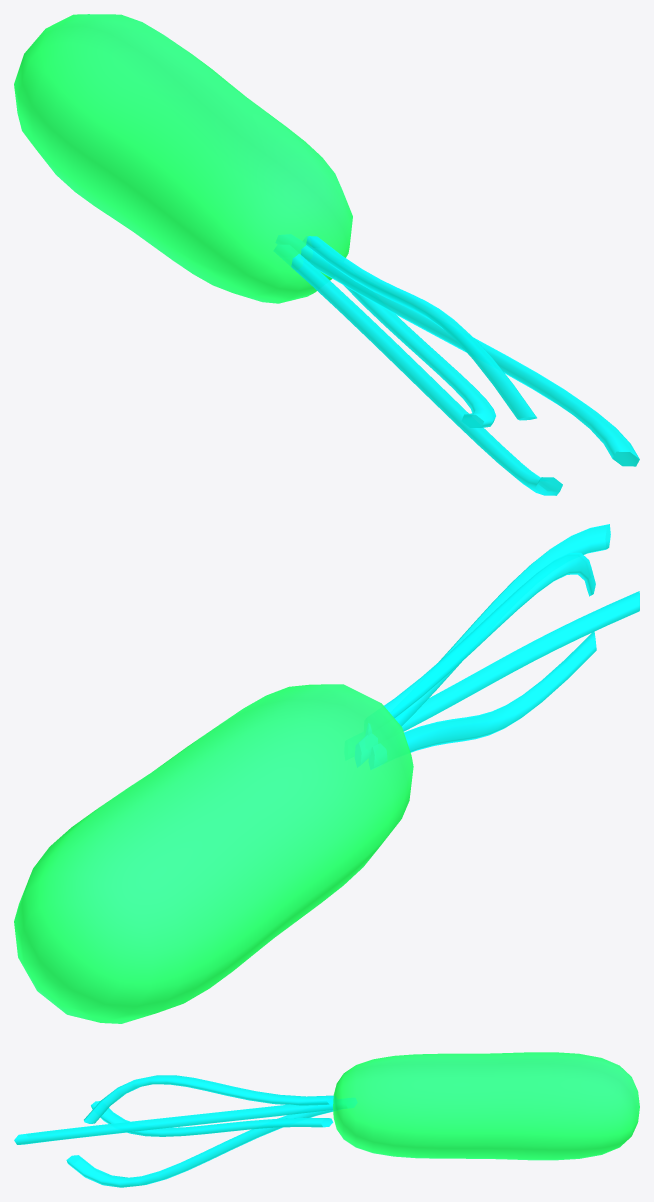
File: bacteria.fbx
3 views of the same model, one above another, from view 1: azimuth 30°, elevation 25°; view 2: azimuth 150°, elevation 25°; view 3: azimuth 270°, elevation 25° (orthographic). The views are drawn at different scales.
Parts seen in each view (by area): view 1: bacteria_low, Cola2; view 2: bacteria_low, Cola2; view 3: bacteria_low, Cola2.
Part boxes in pixels (bbox=[...]): bacteria_low: bbox=[14, 14, 352, 303]; Cola2: bbox=[274, 234, 639, 495]; bacteria_low: bbox=[14, 684, 413, 1023]; Cola2: bbox=[355, 524, 639, 769]; bacteria_low: bbox=[333, 1052, 639, 1160]; Cola2: bbox=[14, 1075, 356, 1187].
Bounding box in the file's own units: 244 × 294 × 1410.
